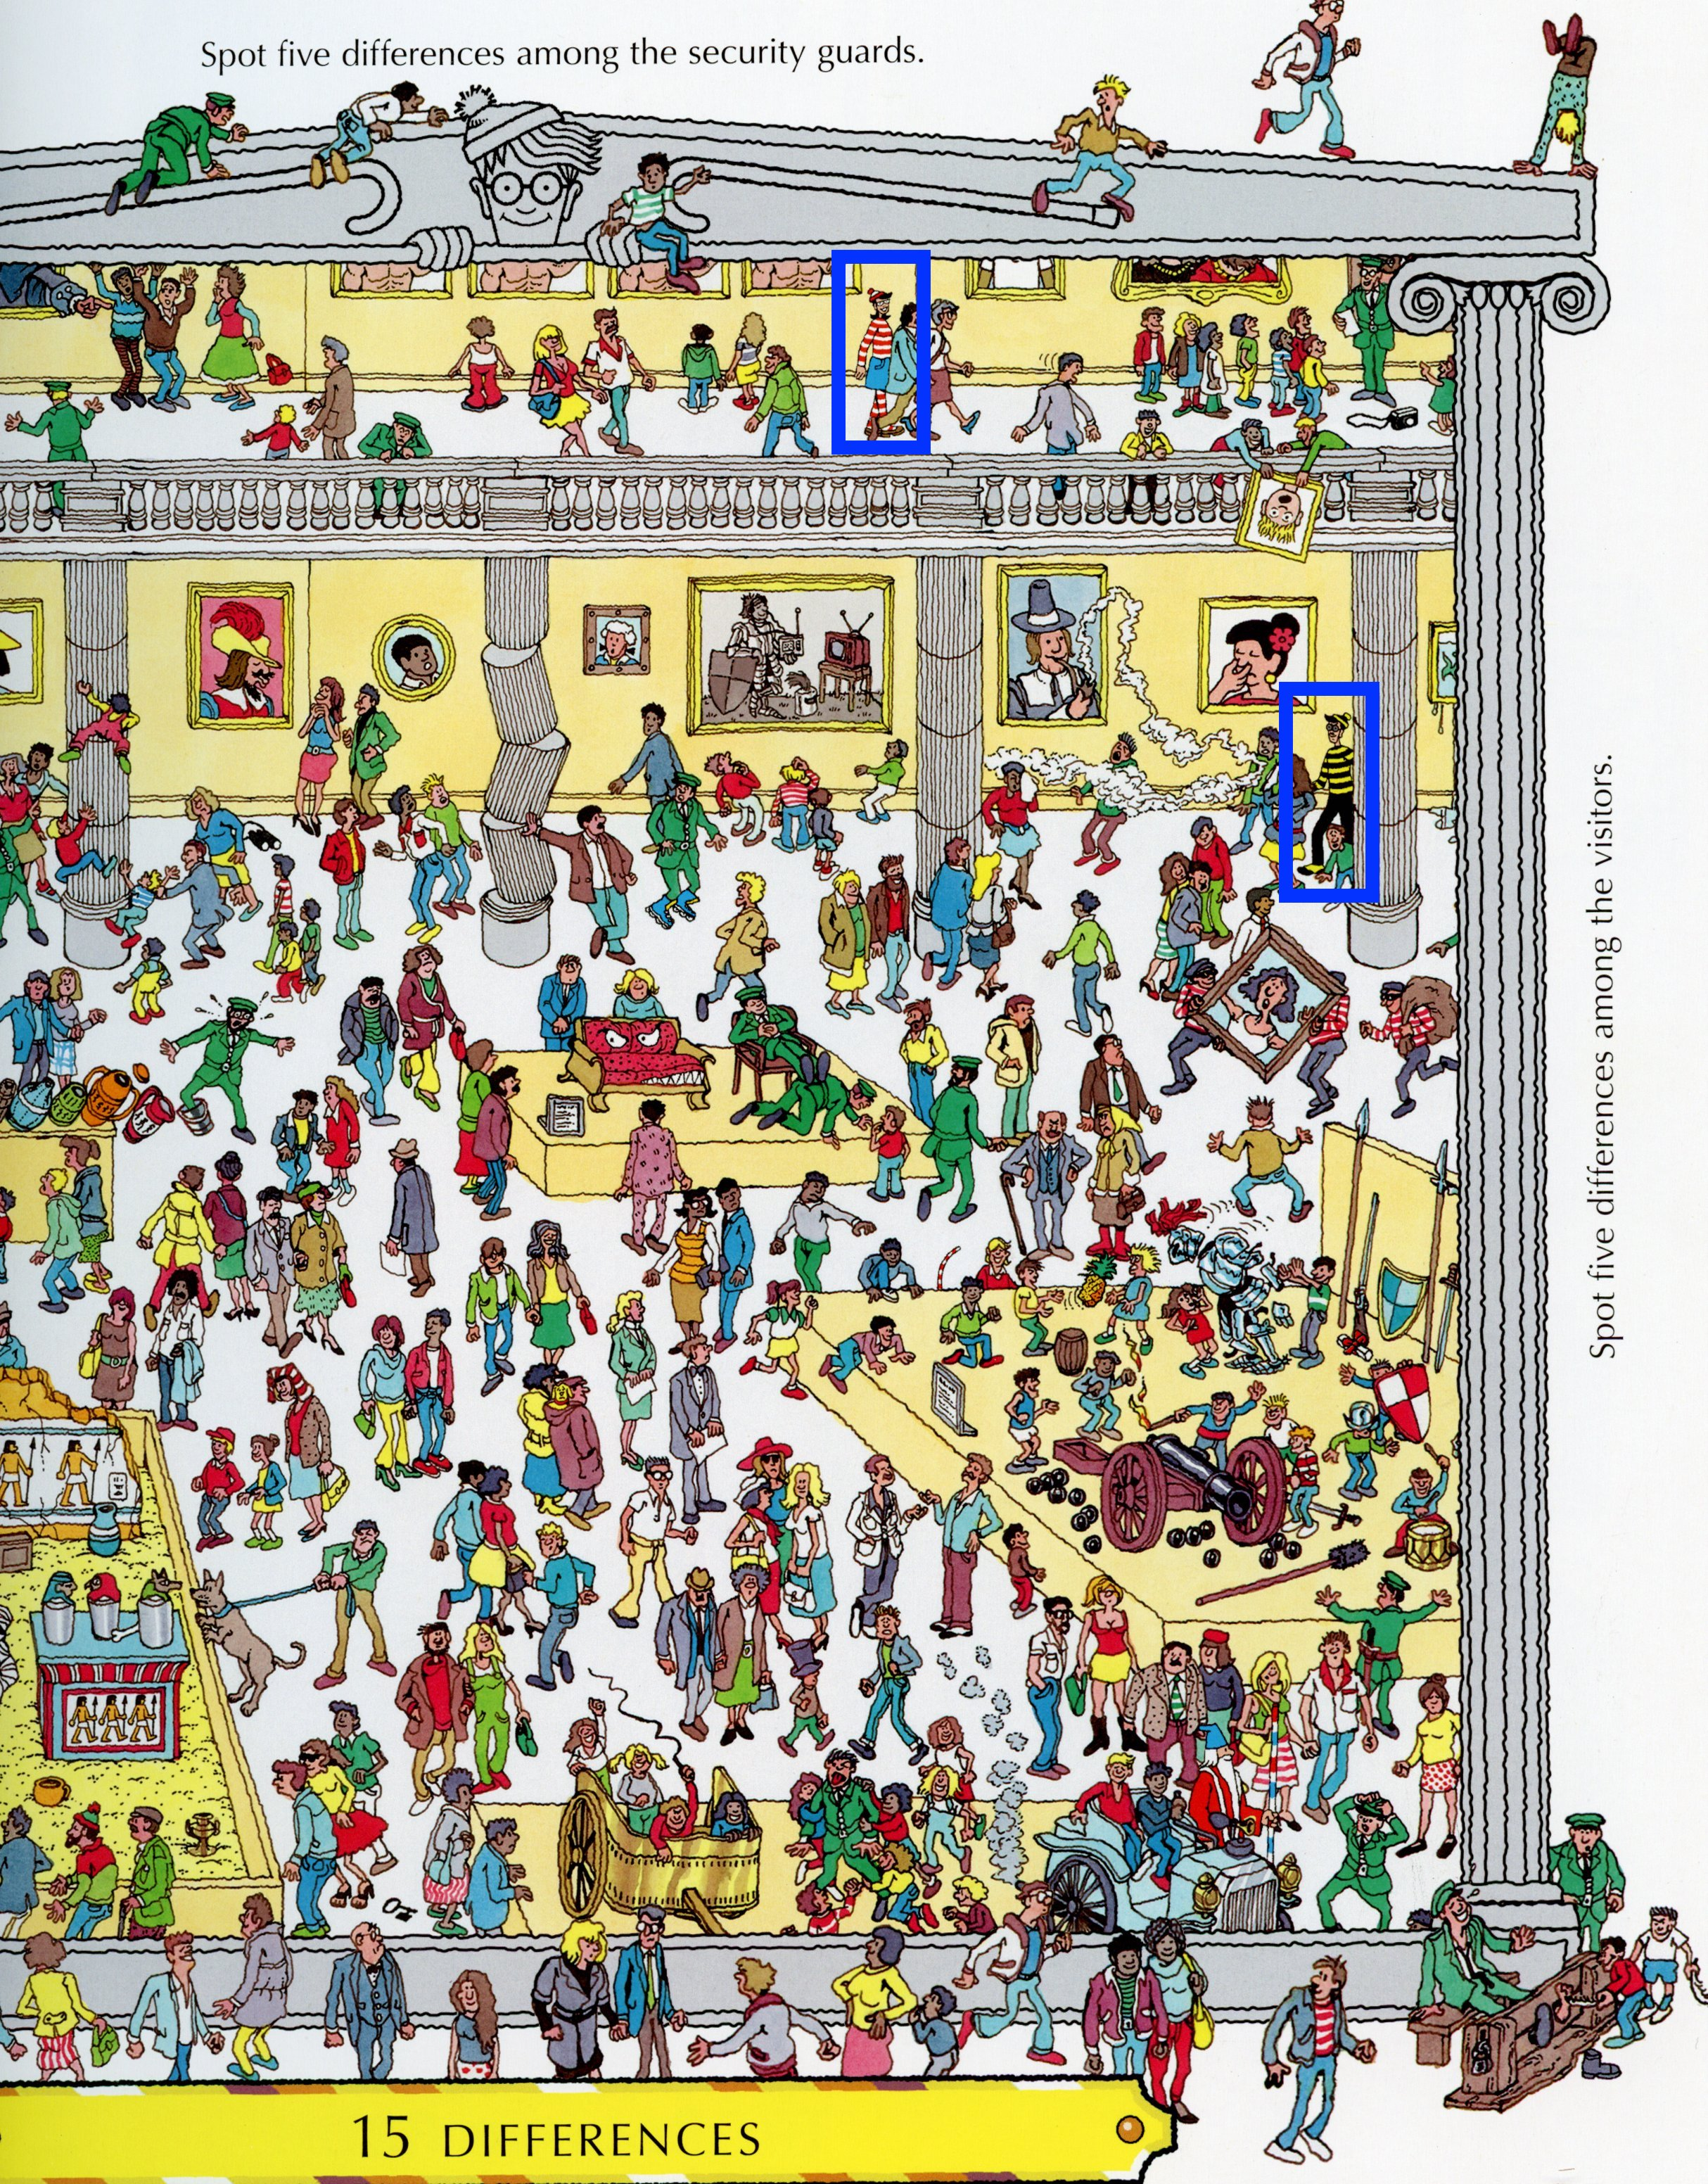odlaw: (1286, 690, 1394, 938)
waldo: (835, 250, 928, 447)
